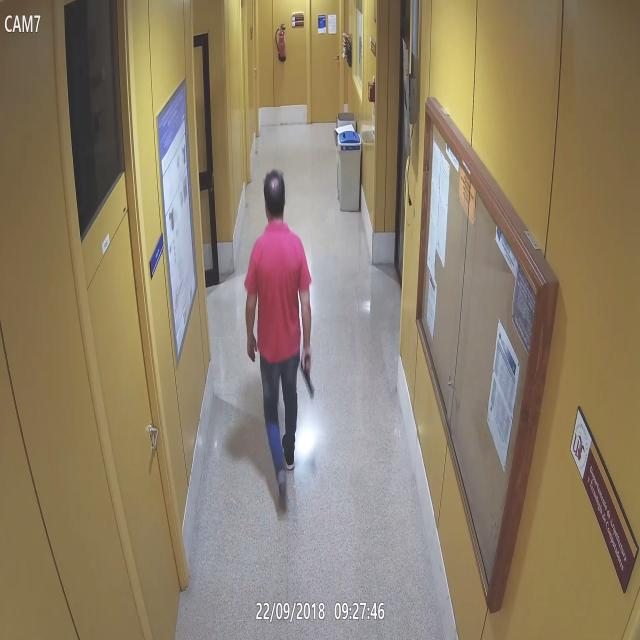pistol: (298, 351, 315, 398)
